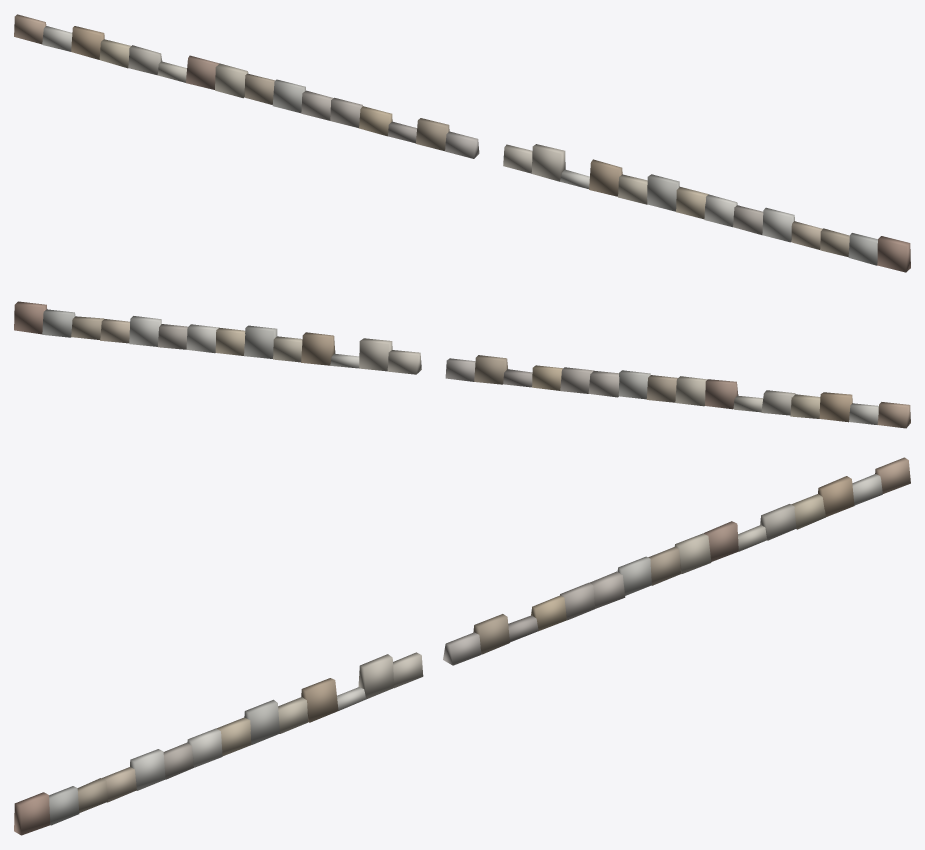
File: farm_-20_-24_far.glb
The picture shows the model from 3 angles, top to bottom: view 1: azimuth 30°, elevation 25°; view 2: azimuth 210°, elevation 25°; view 3: azimuth 270°, elevation 25°; orthographic projection. The views are drawn at different scales.
Visible parts, largest first — view 1: geometry_0; view 2: geometry_0; view 3: geometry_0.
Boxes of the visible parts, x1=… form: geometry_0: x1=14, y1=14, x2=910, y2=272; geometry_0: x1=14, y1=301, x2=910, y2=428; geometry_0: x1=14, y1=457, x2=910, y2=835.
Size of the model in its own units: 29.04 by 4.86 by 39.43.
